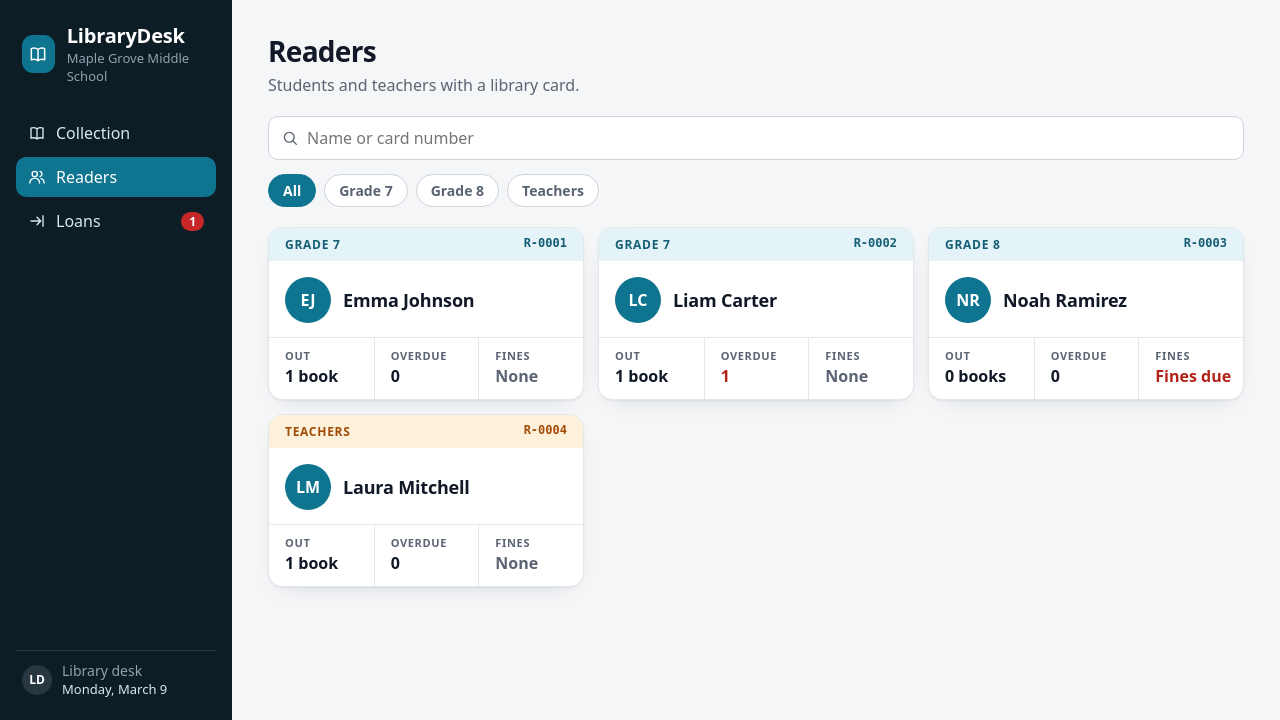
Test: readers › are found by name
Expected: the navigation bar named "Main" is shown, left=16, top=113, right=216, bottom=241
Expected: the list item with test id "reader-1" is shown, left=268, top=227, right=584, bottom=400
Type "laura" into the search field named "Search readers" at (769, 138), box left=307, top=117, right=1231, bottom=159
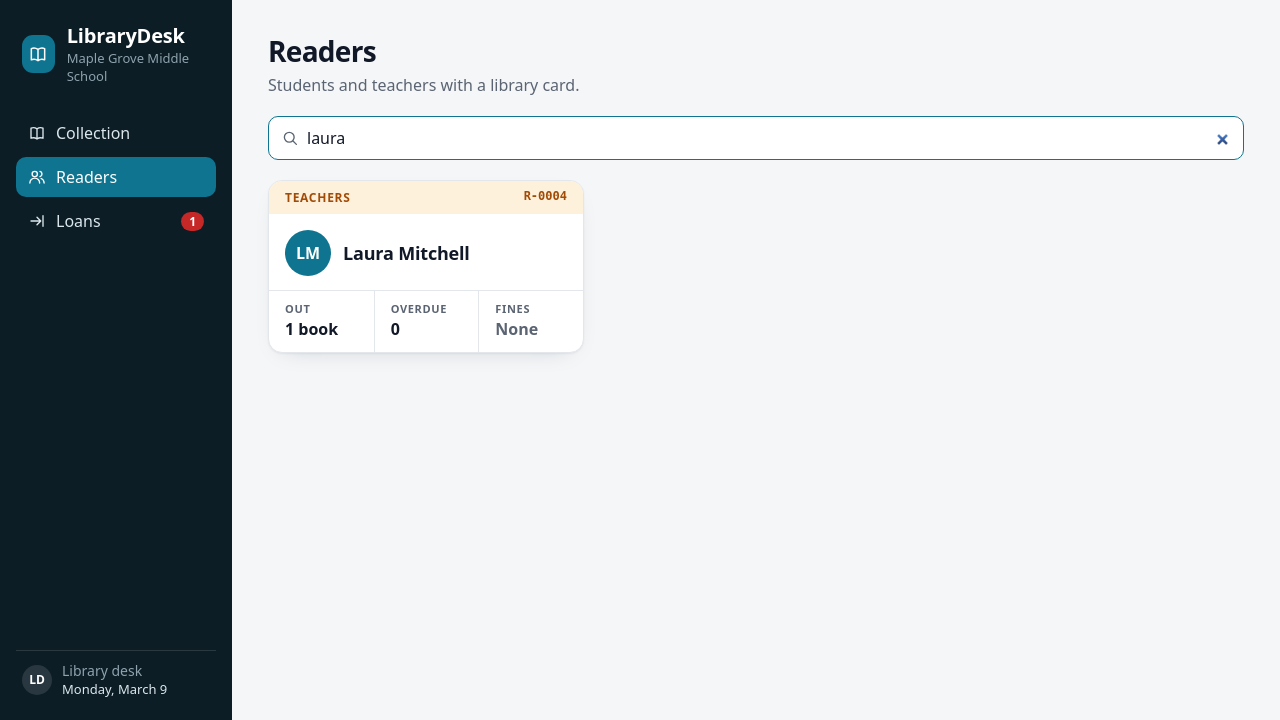
Expected: the list item with test id "reader-4" is shown, left=268, top=180, right=584, bottom=353
Expected: the list item with test id "reader-1" is gone
